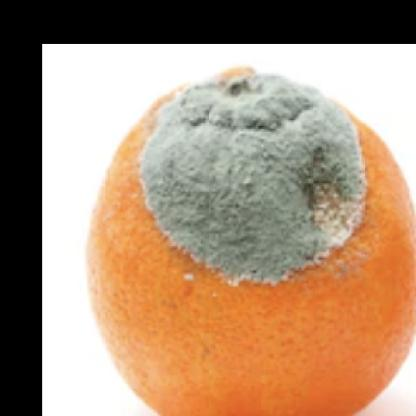rotten: (88, 70, 416, 416)
